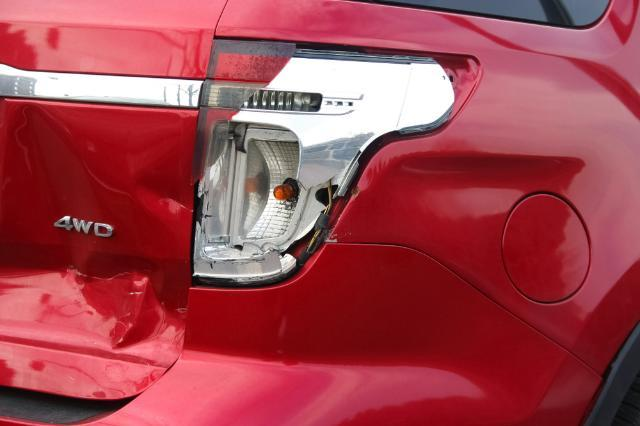dent: (3, 102, 191, 361), (393, 151, 585, 219)
lamp broken: (190, 36, 476, 289)
